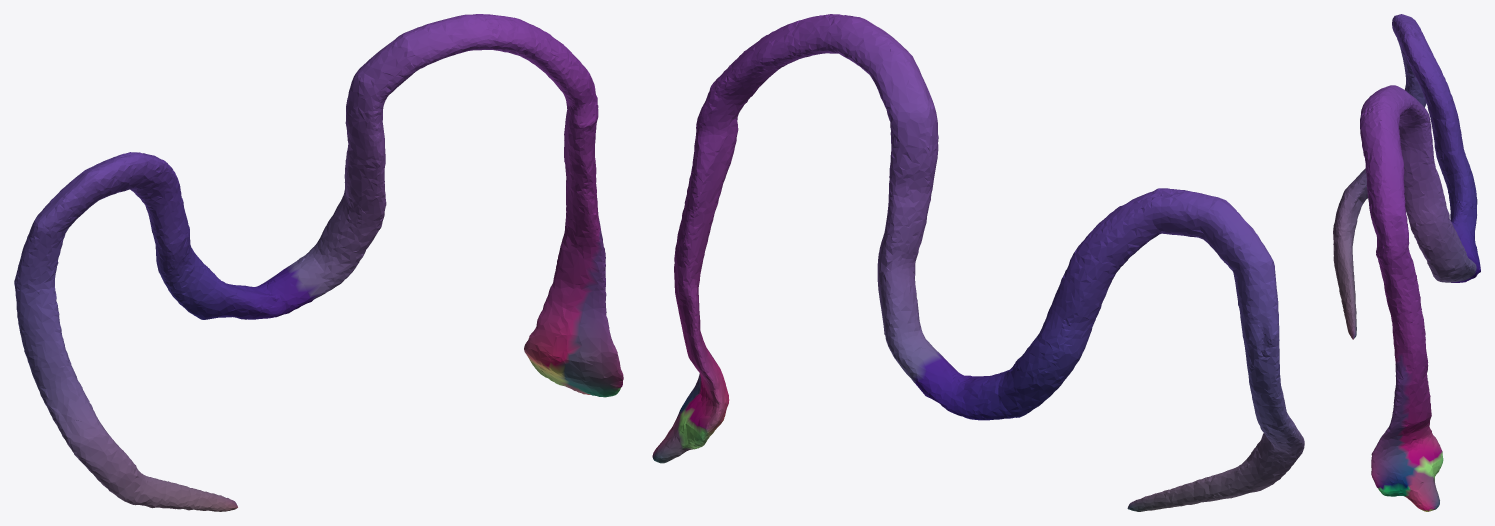
File: snake-1.off.obj
3 renders of one model, left to right at view 1: azimuth 30°, elevation 25°; view 2: azimuth 150°, elevation 25°; view 3: azimuth 270°, elevation 25°, orthographic. The views are drawn at different scales.
Bounding box in the file's own units: 1.51 × 1.08 × 0.407.
